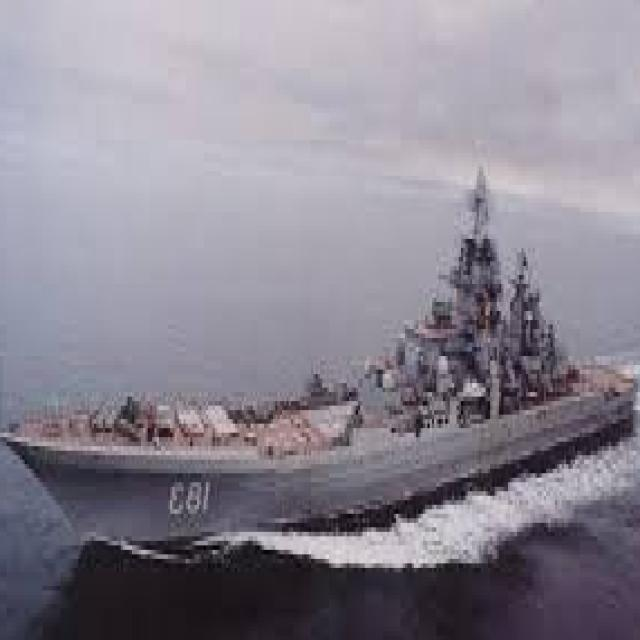navalvessels: (7, 175, 640, 563)
